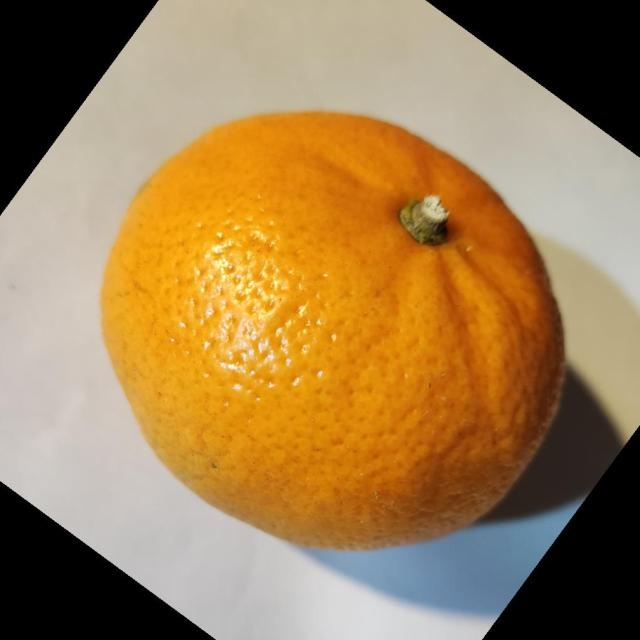agrume: (98, 109, 566, 551)
